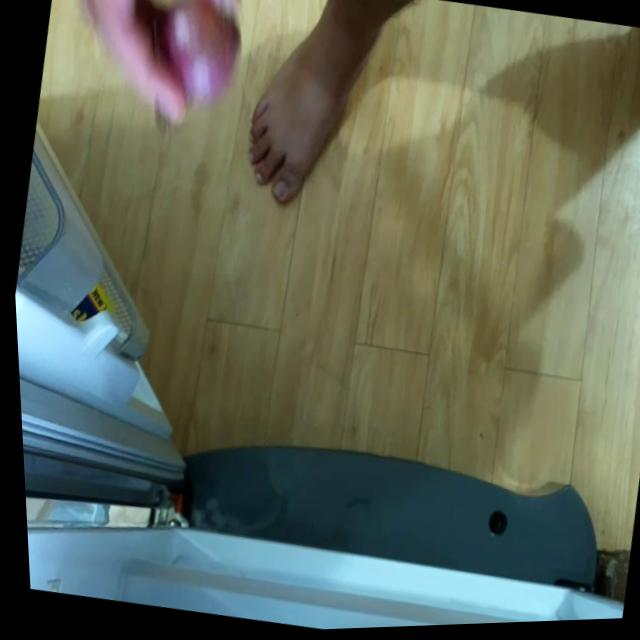onion: (148, 0, 254, 109)
